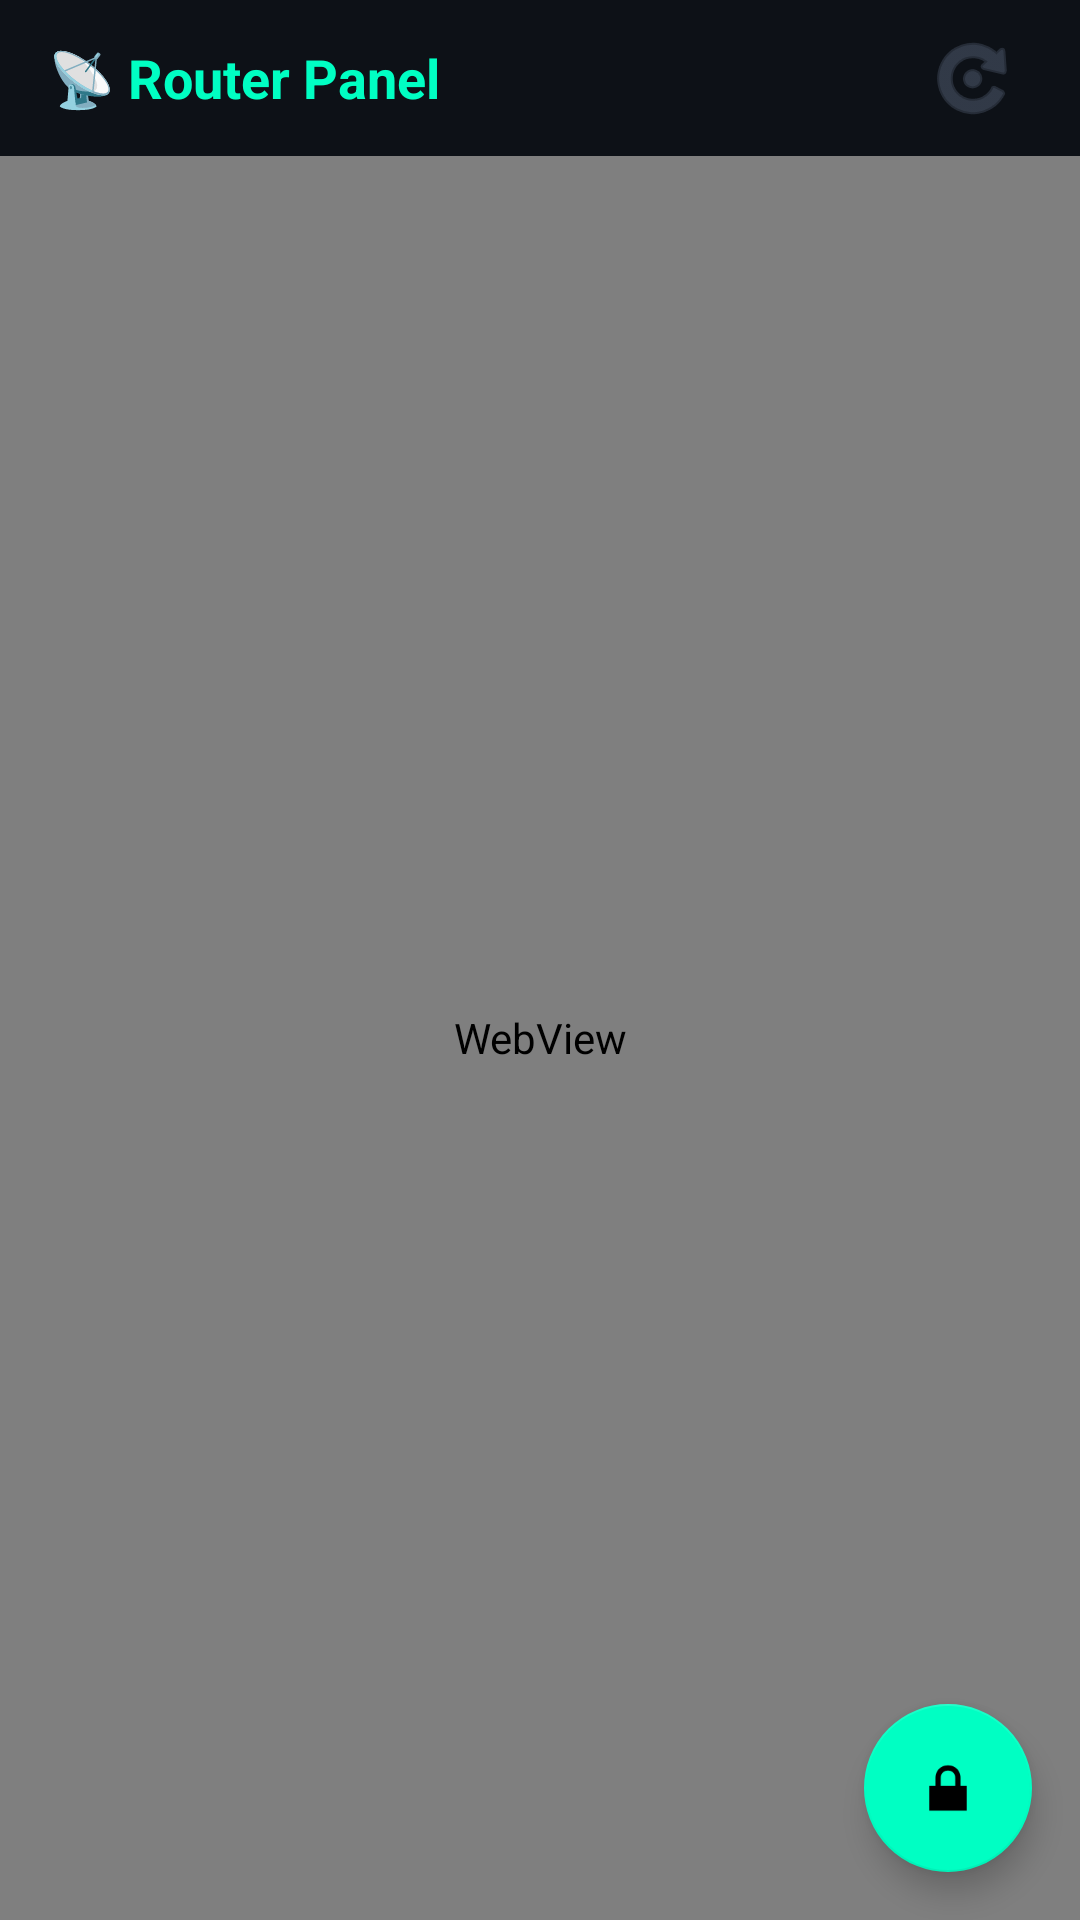

Named icons in this screenshot (1080×1920) and their bounding boxes, {"x1": x1, "y1": y1, "x2": x2, "y2": y2}:
Recargar: {"x1": 937, "y1": 43, "x2": 1007, "y2": 114}
